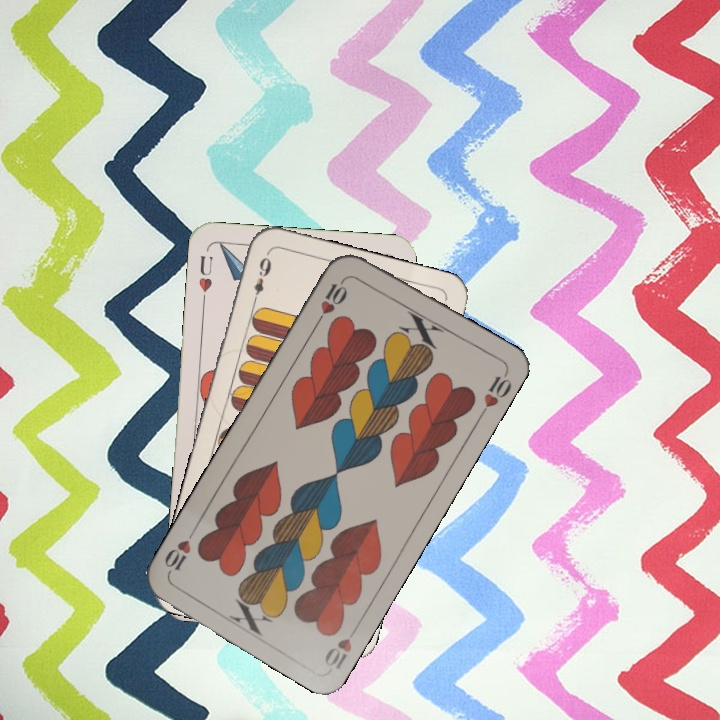E9: (248, 253, 274, 308)
H10: (320, 619, 363, 672), (312, 273, 350, 327)
HU: (194, 251, 215, 305)
